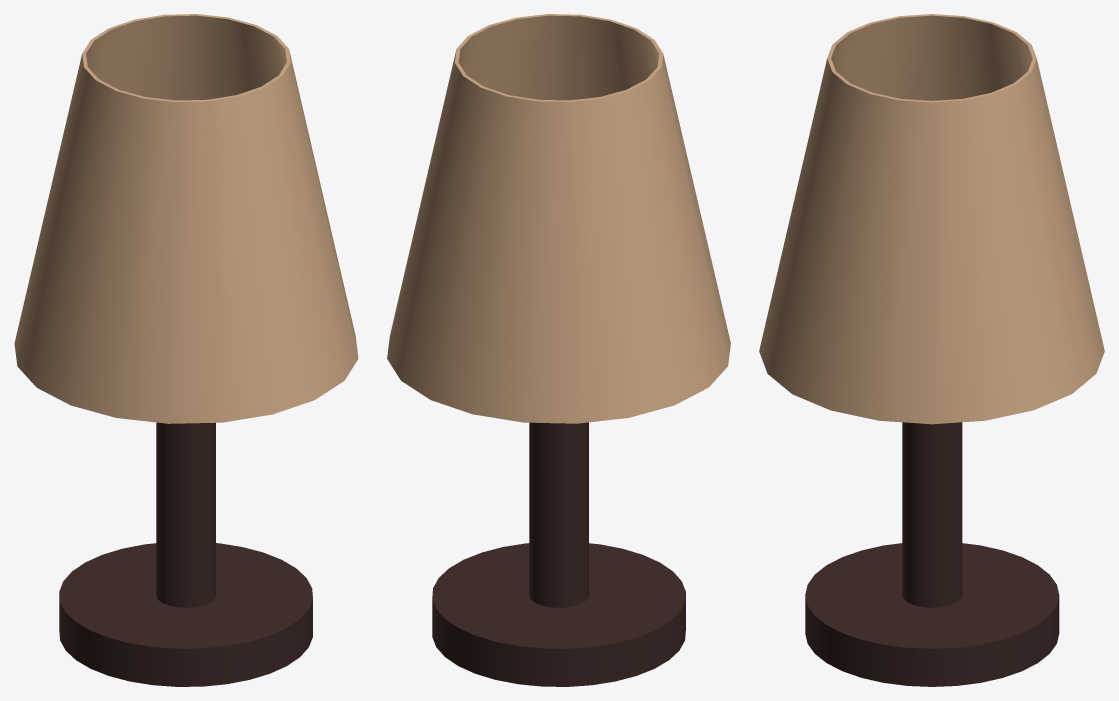
File: LampeChevet2_7.fbx
3 renders of one model, left to right at view 1: azimuth 30°, elevation 25°; view 2: azimuth 150°, elevation 25°; view 3: azimuth 270°, elevation 25°, orthographic.
Visible parts, largest first — view 1: pPipe109, pCylinder763; view 2: pPipe109, pCylinder763; view 3: pPipe109, pCylinder763.
Boxes of the visible parts, <box> form: pPipe109: <box>14,14,358,423</box>; pCylinder763: <box>59,422,312,686</box>; pPipe109: <box>387,14,730,423</box>; pCylinder763: <box>432,422,685,686</box>; pPipe109: <box>759,14,1104,424</box>; pCylinder763: <box>805,422,1059,686</box>.
Size of the model in its own units: 13.33 by 24.46 by 13.33.
